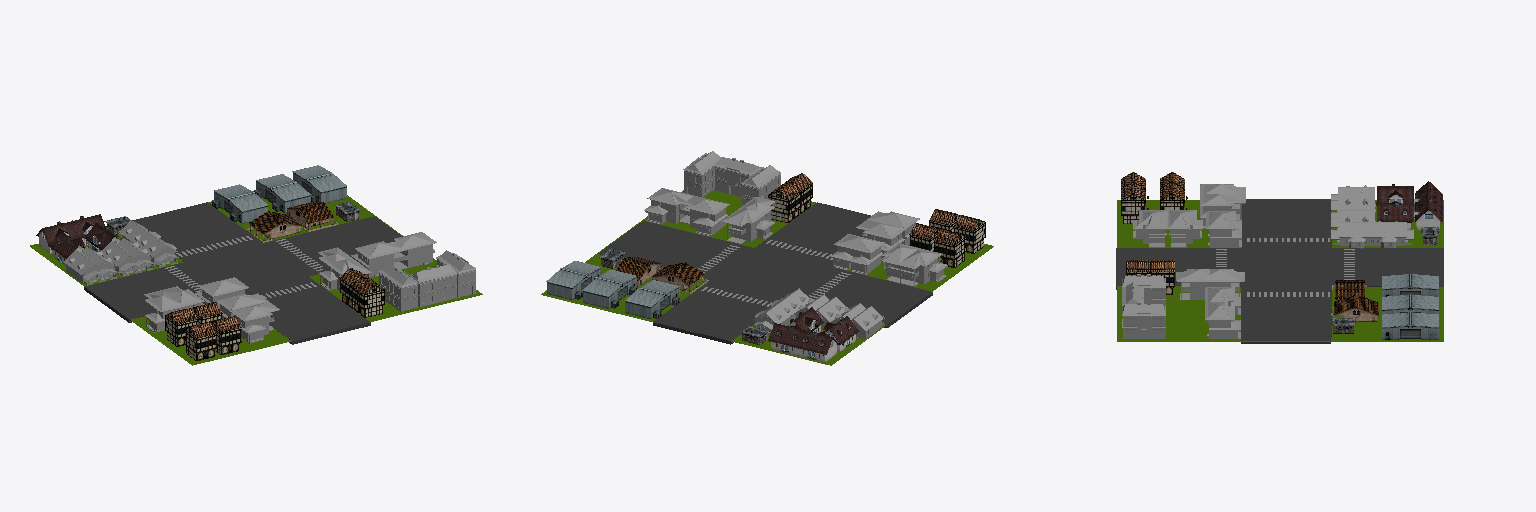
3 views of the same model, side by side, from view 1: azimuth 30°, elevation 25°; view 2: azimuth 150°, elevation 25°; view 3: azimuth 270°, elevation 25° (orthographic).
Parts seen in each view (by area): view 1: Line002, Plane001, City_building_026, City_building_022, City_building_007, City_building_038, City_building_016, City_building_011, City_building_023, City_building_004, City_building_010, City_building_014 (+15 smaller); view 2: Line002, Plane001, City_building_026, City_building_038, City_building_033, City_building_034, City_building_037, City_building_022, City_building_007, City_building_011, City_building_023, City_building_014 (+13 smaller); view 3: Line002, Plane001, City_building_022, City_building_014, City_building_026, City_building_017, City_building_023, City_building_034, City_building_038, City_building_037, City_building_007, City_building_033 (+12 smaller).
Boxes of the visible parts, <box> form: Line002: <box>84,202,402,344</box>; Plane001: <box>30,191,482,365</box>; City_building_026: <box>351,232,436,277</box>; City_building_022: <box>216,293,279,343</box>; City_building_007: <box>212,184,268,223</box>; City_building_038: <box>144,286,204,332</box>; City_building_016: <box>410,264,456,306</box>; City_building_011: <box>254,174,310,212</box>; City_building_023: <box>292,165,346,203</box>; City_building_004: <box>64,247,118,285</box>; City_building_010: <box>378,264,418,311</box>; City_building_014: <box>118,220,178,267</box>; Line002: <box>598,202,932,344</box>; Plane001: <box>541,189,993,365</box>; City_building_026: <box>644,188,729,236</box>; City_building_038: <box>882,243,947,286</box>; City_building_033: <box>768,323,839,362</box>; City_building_034: <box>722,197,774,244</box>; City_building_037: <box>831,234,884,274</box>; City_building_022: <box>856,211,919,259</box>; City_building_007: <box>625,280,679,318</box>; City_building_011: <box>582,270,636,308</box>; City_building_023: <box>546,261,600,299</box>; City_building_014: <box>752,288,810,334</box>; Line002: <box>1116,199,1443,343</box>; Plane001: <box>1117,200,1443,341</box>; City_building_022: <box>1133,210,1202,247</box>; City_building_014: <box>1331,221,1413,248</box>; City_building_026: <box>1205,287,1240,338</box>; City_building_017: <box>1122,303,1165,338</box>; City_building_023: <box>1382,312,1438,339</box>; City_building_034: <box>1176,269,1244,299</box>; City_building_038: <box>1200,184,1245,228</box>; City_building_037: <box>1206,211,1241,247</box>; City_building_007: <box>1382,274,1438,296</box>; City_building_033: <box>1414,181,1442,229</box>.
Size of the model in its own units: 96.86 by 11.25 by 94.37.
11 materials, 5 textured.